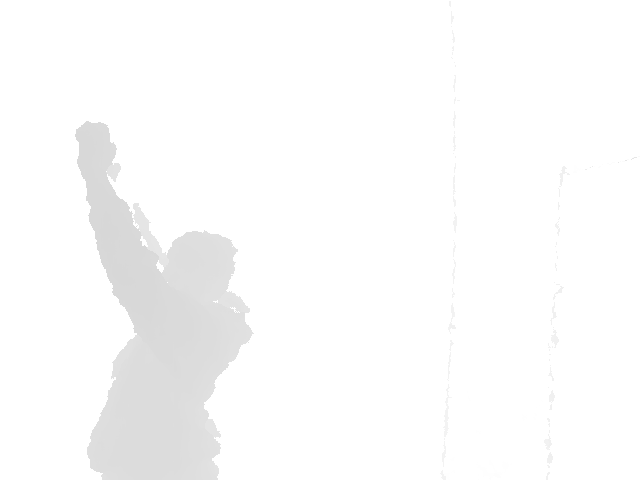hand: (74, 120, 118, 176)
head: (158, 230, 238, 307)
person: (74, 120, 255, 480)
